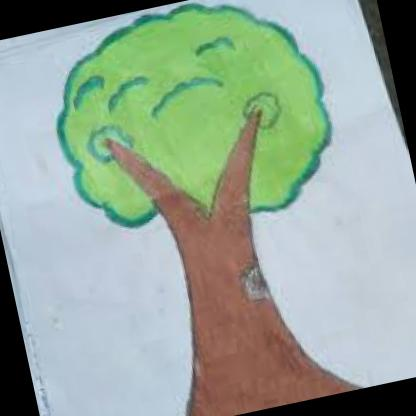branch_sharp: (97, 95, 286, 244)
crown_cloud: (32, 0, 351, 255)
trunk_reflex: (156, 237, 302, 366)
